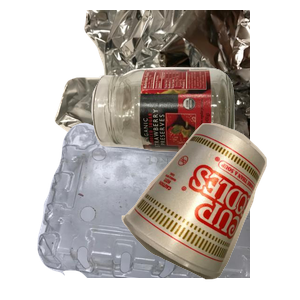glass: (89, 65, 300, 212)
metal: (52, 10, 292, 190)
plastic: (35, 120, 275, 300)
trash: (119, 121, 300, 300)
